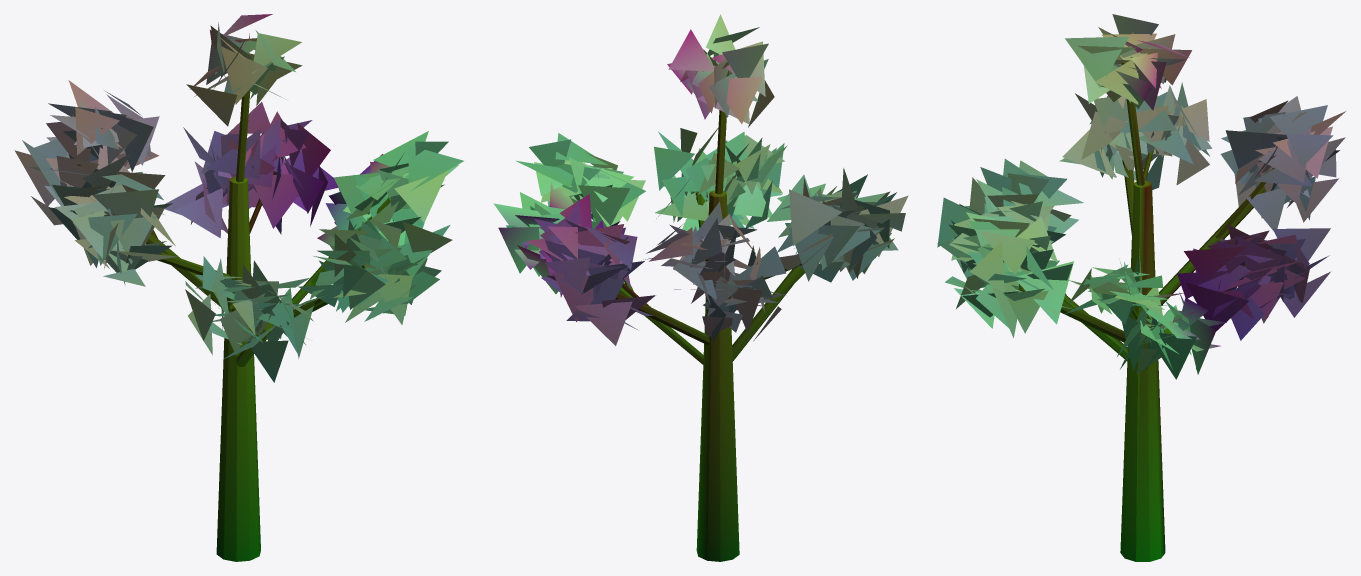
Rendered from ecological_broadleaf_young_02.glb.
The picture shows the model from 3 angles, left to right: view 1: azimuth 30°, elevation 25°; view 2: azimuth 150°, elevation 25°; view 3: azimuth 270°, elevation 25°; orthographic projection. The views are drawn at different scales.
Visible parts, largest first — view 1: ecological_broadleaf_young_02; view 2: ecological_broadleaf_young_02; view 3: ecological_broadleaf_young_02.
Boxes of the visible parts, x1,y1,x2,y2 form: ecological_broadleaf_young_02: (14, 14, 463, 561); ecological_broadleaf_young_02: (493, 14, 908, 561); ecological_broadleaf_young_02: (937, 14, 1345, 561).
Bounding box in the file's own units: 8.28 × 10.62 × 7.48.
